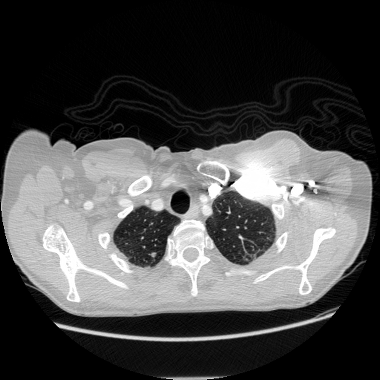nodule: (151, 252, 155, 256)
